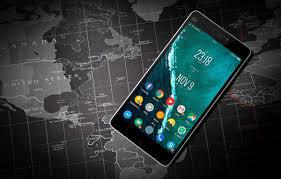Smartphone: (114, 12, 244, 164)
